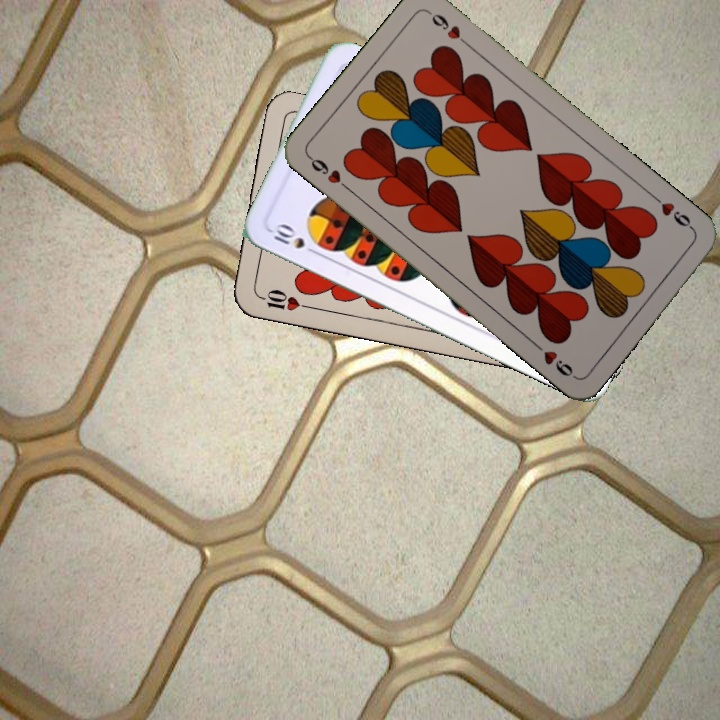H10: (254, 285, 313, 314)
H9: (648, 191, 698, 234), (305, 151, 354, 194)
S10: (266, 220, 322, 258)
